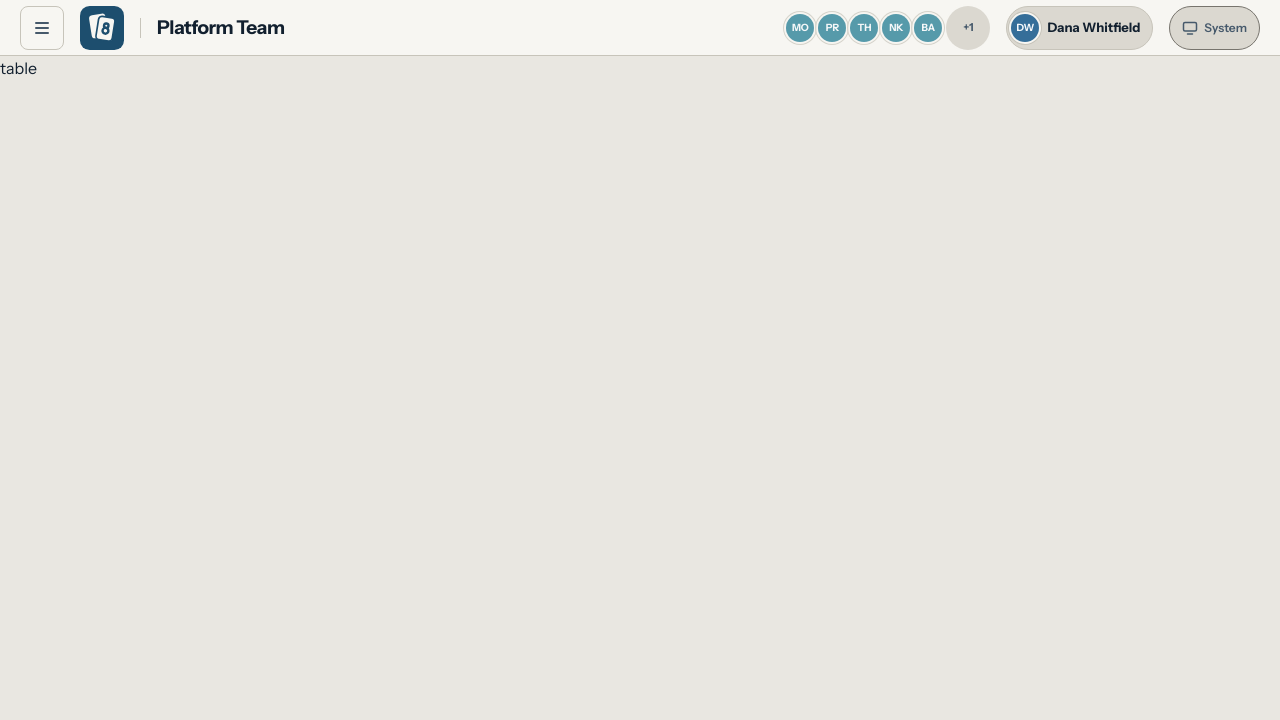
Test: the sidebar's Thank action › closes the phone sheet so the form it opens can be seen
Click the button named "Show sidebar": (42, 28) [20, 6, 64, 50]
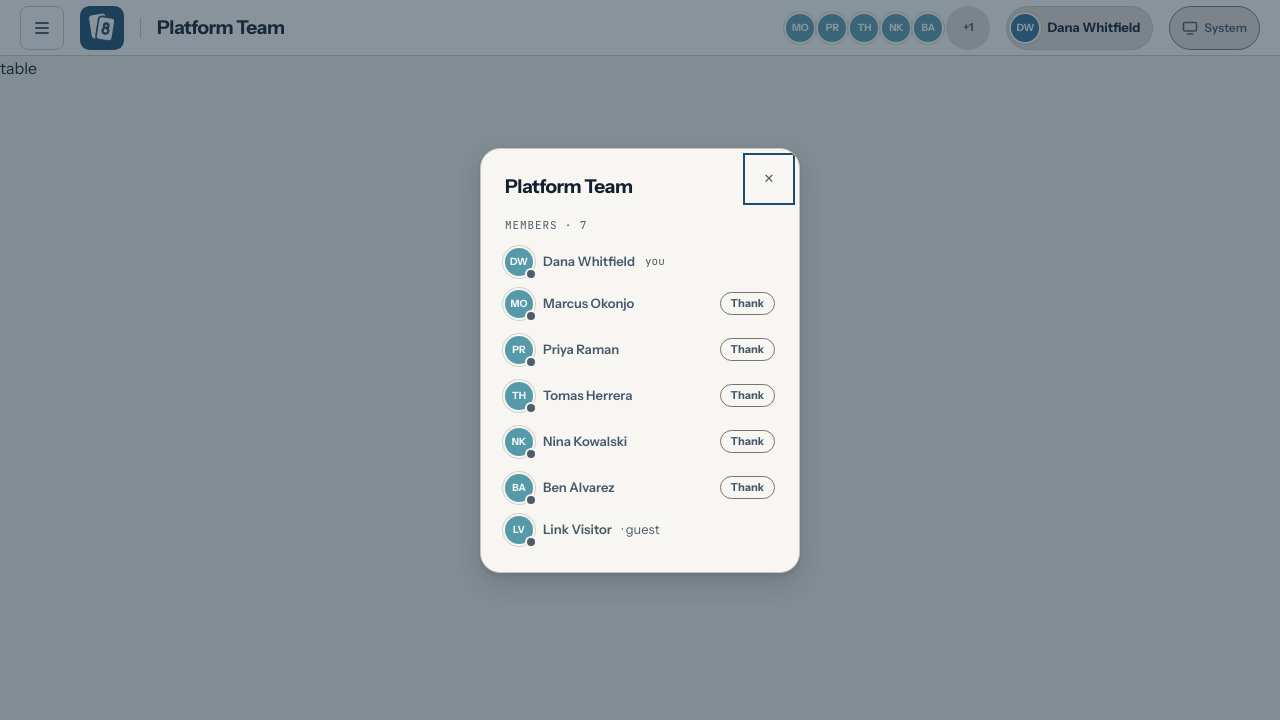
Click the button with aria-label "Thank Marcus Okonjo": (747, 304) [720, 282, 775, 326]
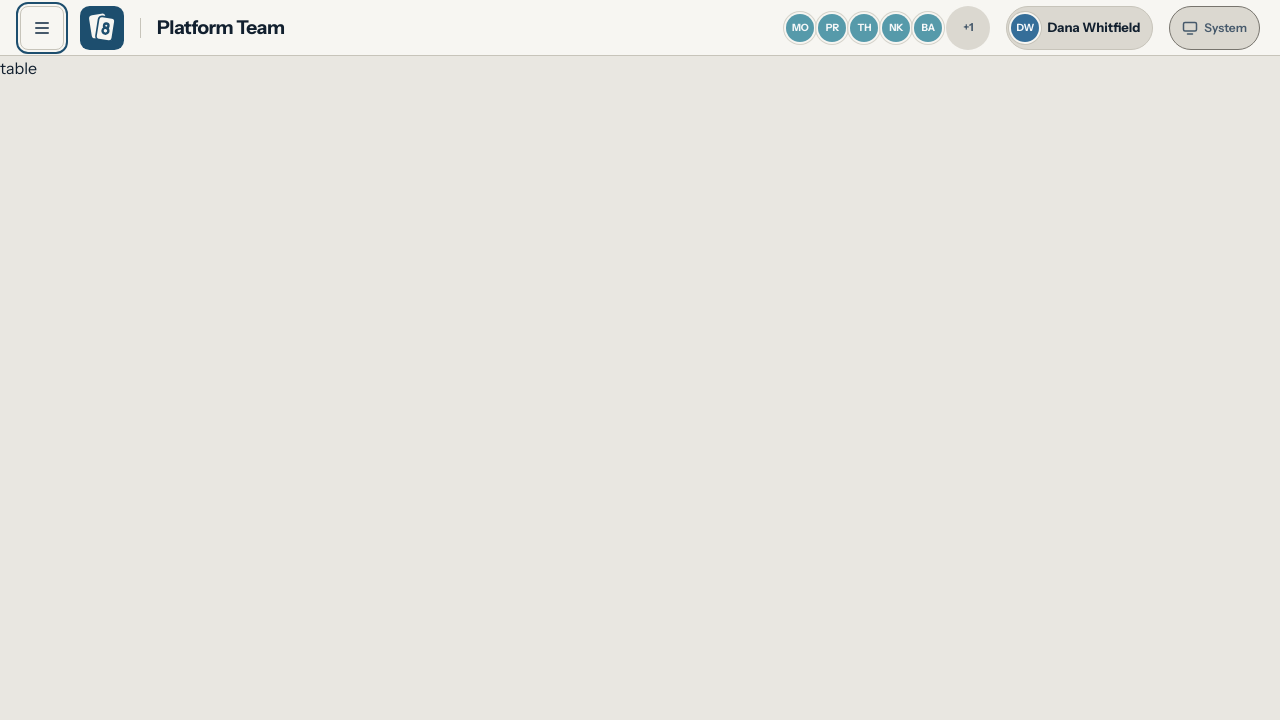
Expected: the navigation bar "Space" is gone
